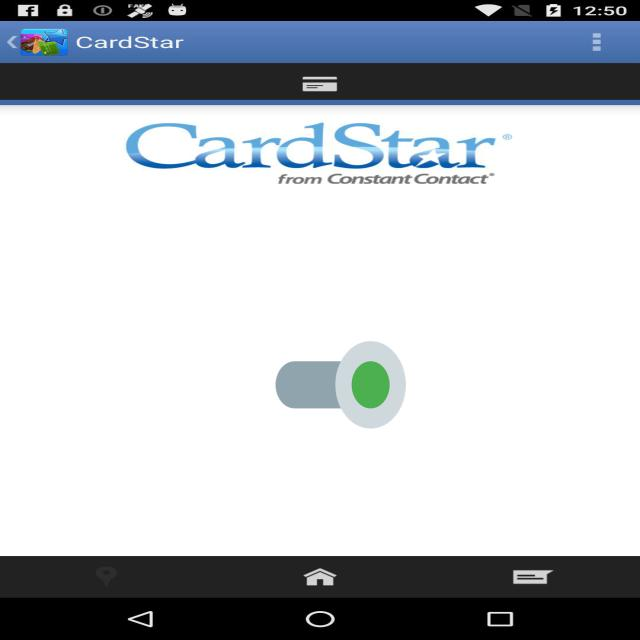social proof: (275, 304, 406, 466)
